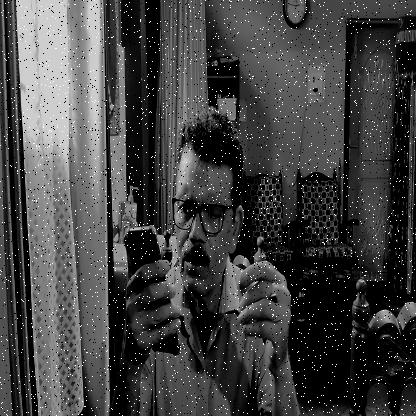Distracted: (172, 117, 247, 313)
